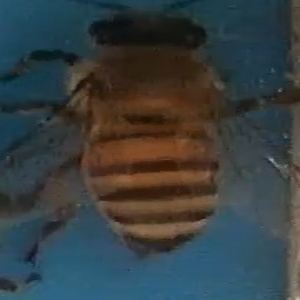bee: (2, 3, 285, 263)
